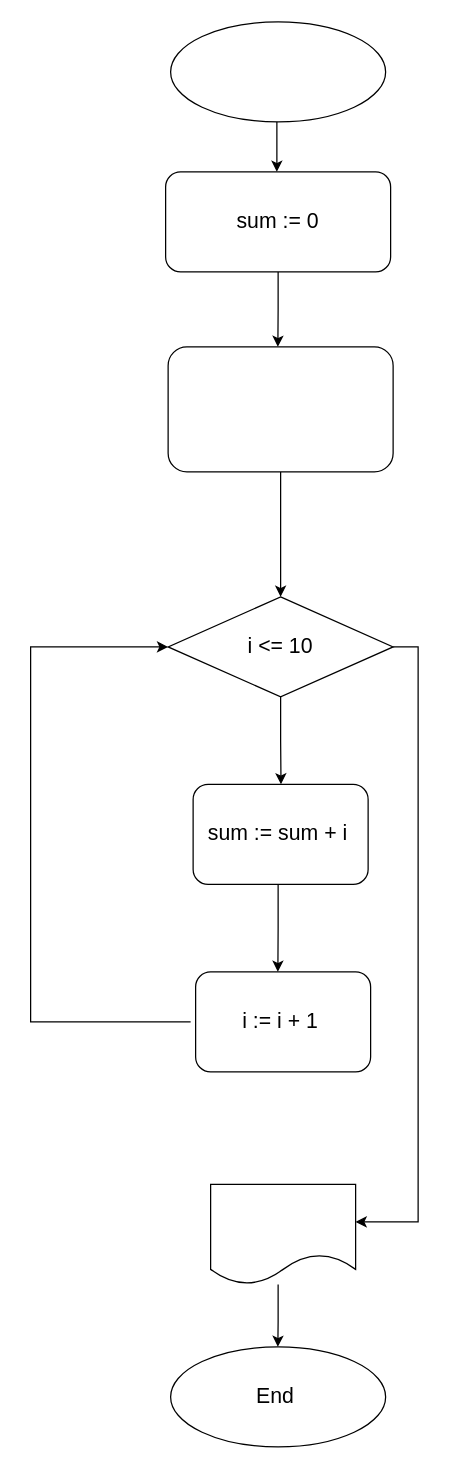
Image size: 450x1469. Some labels were removed from this diagram. The shapes that lost their labels are listed below. From the top down, each one's box as (x1, y1, x2, y2) in pixels, then its label:
(169, 21, 386, 122): Begin
(167, 346, 393, 472): i := 1
(209, 1183, 356, 1284): sum
